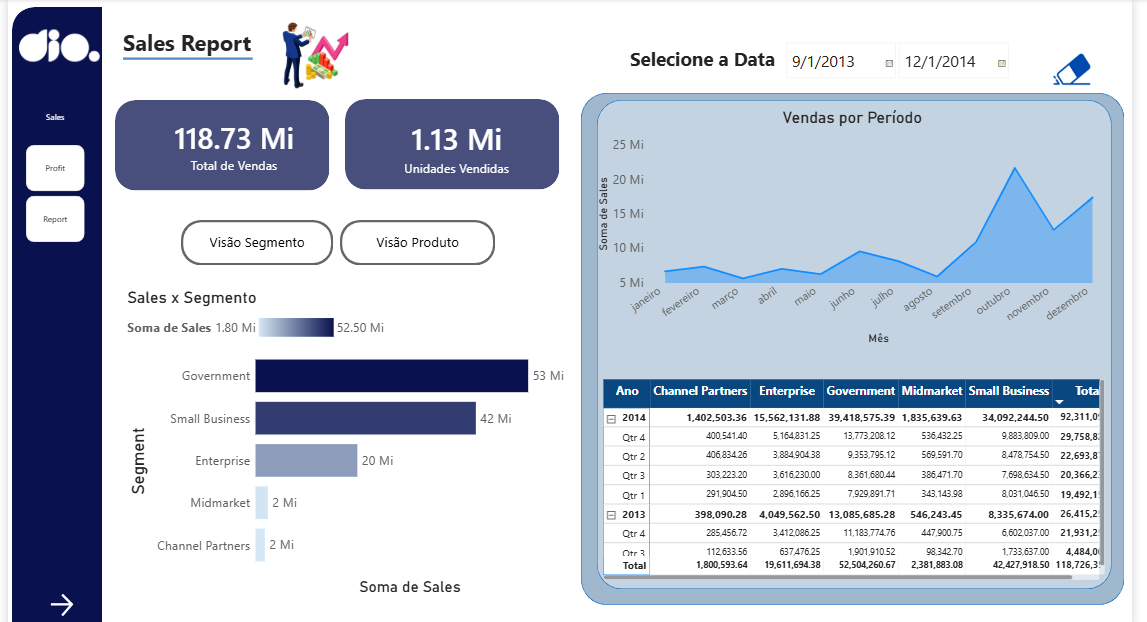

What the dashboard file says about the page in this screenshot:
{"tool":"powerbi","page":{"name":"Sales","canvas":[1920,1080],"ordinal":0},"visuals":[{"type":"shape","box":[7,14,153.9,1065.6],"z":0},{"type":"slicer","fields":{"Values":["financials.Date"]},"box":[1321.9,70.1,433.7,73.1],"z":0,"group":"g2"},{"type":"shape","box":[197,70.4,221.5,63.7],"z":0,"group":"g4"},{"type":"shape","box":[183,171.8,366.4,154.8],"z":0,"group":"g1"},{"type":"clusteredBarChart","title":"Sales x Segmento","fields":{"Y":["Sum(financials.Sales)"],"Category":["financials.Segment"]},"box":[186.9,481.4,778.9,555],"z":0,"group":"g3"},{"type":"image","title":"logo-dio","box":[19.5,29.2,137.8,101.1],"z":1000},{"type":"textbox","box":[197,49.7,283,91.8],"z":1000,"group":"g4"},{"type":"textbox","box":[1062.9,79.9,275.3,80.4],"z":1000,"group":"g2"},{"type":"shape","box":[575.9,170.7,366.4,154.8],"z":1000,"group":"g1"},{"type":"actionButton","box":[1754.7,49.5,131.7,118.9],"z":2000,"group":"g2"},{"type":"group","id":"g1","title":"Cartões ","box":[183,160.3,768.8,178.8],"z":2000},{"type":"cardVisual","fields":{"Data":["Sum(financials.Sales)"]},"box":[183.2,160.3,407.8,178.8],"z":2000,"group":"g1"},{"type":"actionButton","title":"B-Produto","box":[567.3,378.7,265.3,77.3],"z":2000,"group":"g3"},{"type":"group","id":"g2","title":"Filtro por data","box":[1062.9,49.5,823.5,118.9],"z":3000},{"type":"image","title":"clean","box":[1775.8,49.5,84.3,101.9],"z":3000,"group":"g2"},{"type":"cardVisual","fields":{"Data":["Sum(financials.Units Sold)"]},"box":[583.1,171,368.7,164.3],"z":3000,"group":"g1"},{"type":"actionButton","title":"B-Segmento","box":[295.1,378.2,260.2,77.3],"z":3000,"group":"g3"},{"type":"group","id":"g3","title":"Sales x Segmento","box":[178.8,378.2,785.3,657.8],"z":4000},{"type":"group","id":"g4","title":"Title report","box":[197,49.7,283,91.8],"z":5000},{"type":"actionButton","box":[30.3,1007.8,121.3,56],"z":6000},{"type":"shape","box":[979.5,160.8,928.3,874.7],"z":7000},{"type":"shape","box":[1006.3,173,879.6,835.7],"z":8000},{"type":"pivotTable","fields":{"Columns":["financials.Segment"],"Rows":["financials.Date.Variation.Hierarquia de datas.Ano","financials.Date.Variation.Hierarquia de datas.Trimestre"],"Values":["Sum(financials.Sales)"]},"box":[1001.4,635.9,889.3,372.8],"z":9000},{"type":"image","box":[439.8,34.4,166.4,120.5],"z":10000},{"type":"areaChart","title":"Vendas por Período ","fields":{"Category":["financials.Date.Variation.Hierarquia de datas.Ano","financials.Date.Variation.Hierarquia de datas.Mês"],"Y":["Sum(financials.Sales)"]},"box":[989.2,173,906.6,433.7],"z":11000},{"type":"pageNavigator","box":[30.8,162.4,100.7,254.9],"z":12000}]}

Visuals, with their boxes on the page's 1920x1080 design canvas (x1, y1, x2, y2). These are canvas units, not pixel positions in the 1147x622 screenshot, which may show the page scaled, cropped or inside an application window:
shape: 7/14/161/1080
slicer - financials.Date: 1322/70/1756/143
shape: 197/70/418/134
shape: 183/172/549/327
"Sales x Segmento" clusteredBarChart: 187/481/966/1036
"logo-dio" image: 20/29/157/130
textbox: 197/50/480/142
textbox: 1063/80/1338/160
shape: 576/171/942/326
actionButton: 1755/50/1886/168
"Cartões " group: 183/160/952/339
cardVisual - Sum(financials.Sales): 183/160/591/339
"B-Produto" actionButton: 567/379/833/456
"Filtro por data" group: 1063/50/1886/168
"clean" image: 1776/50/1860/151
cardVisual - Sum(financials.Units Sold): 583/171/952/335
"B-Segmento" actionButton: 295/378/555/456
"Sales x Segmento" group: 179/378/964/1036
"Title report" group: 197/50/480/142
actionButton: 30/1008/152/1064
shape: 980/161/1908/1036
shape: 1006/173/1886/1009
pivotTable - financials.Segment x financials.Date.Variation.Hierarquia de datas.Ano: 1001/636/1891/1009
image: 440/34/606/155
"Vendas por Período " areaChart: 989/173/1896/607
pageNavigator: 31/162/132/417
